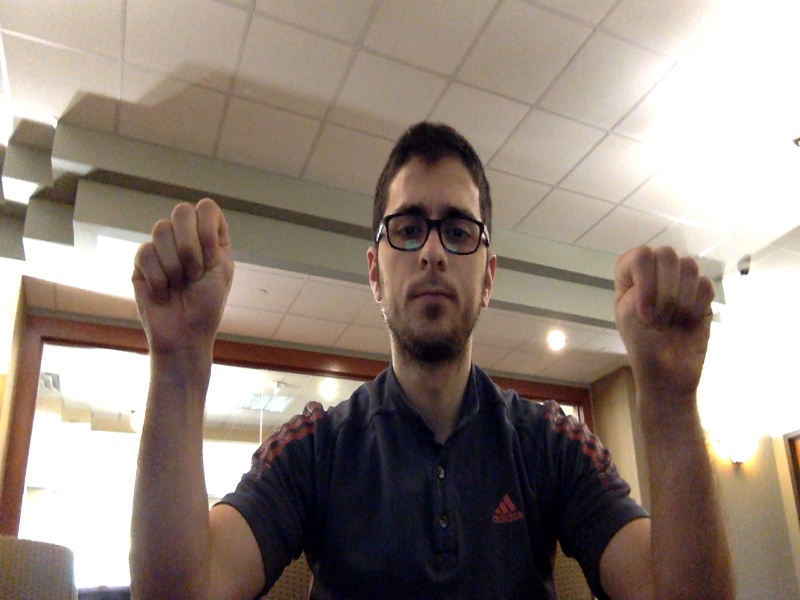0-hand: (133, 199, 232, 352), (616, 246, 715, 398)
